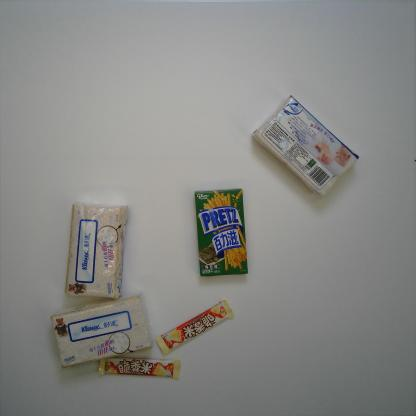Chocolate: (155, 299, 233, 356), (96, 355, 182, 381)
Dessert: (194, 187, 249, 278)
Tissue: (252, 93, 360, 199), (48, 292, 153, 368), (64, 203, 128, 300)
